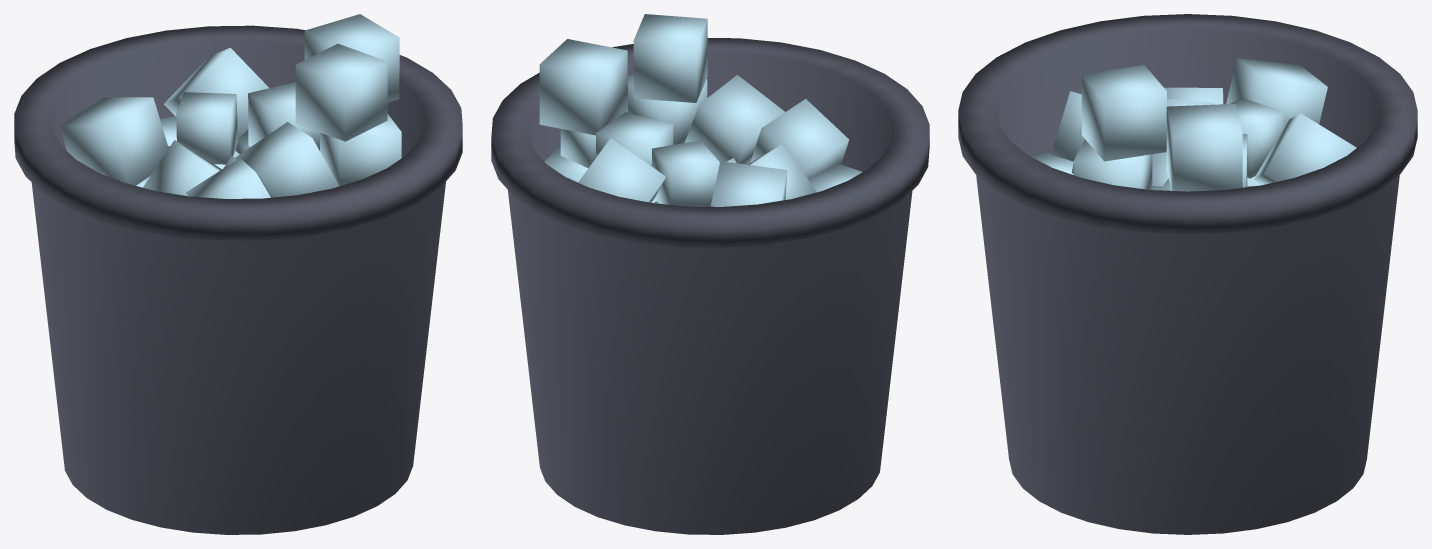
Rendered from balde_hielo.glb.
3 views of the same model, side by side, from view 1: azimuth 30°, elevation 25°; view 2: azimuth 150°, elevation 25°; view 3: azimuth 270°, elevation 25° (orthographic). The views are drawn at different scales.
Parts seen in each view (by area): view 1: bucket, Cube.010, Cube.067, Cube.009, Cube.011, Cube.029, Cube.012, Cube.013, Cube.030, Cube.064, Cube.017; view 2: bucket, Cube.012, Cube.010, Cube.009, Cube.017, Cube.011, Cube.013, Cube.067, Cube.030, Cube.029, Cube.064, Cube.015 (+2 smaller); view 3: bucket, Cube.010, Cube.012, Cube.067, Cube.013, Cube.029, Cube.011, Cube.017, Cube.060.
Boxes of the visible parts, x1,y1,x2,y2 form: bucket: (14,25,462,534); Cube.010: (295,43,387,141); Cube.067: (59,97,168,185); Cube.009: (235,122,339,197); Cube.011: (176,92,237,164); Cube.029: (320,114,401,186); Cube.012: (304,14,399,102); Cube.013: (164,47,269,138); Cube.030: (248,82,319,150); Cube.064: (143,140,221,195); Cube.017: (186,158,270,198); bucket: (491,38,929,534); Cube.012: (539,39,627,135); Cube.010: (633,14,707,102); Cube.009: (684,75,784,164); Cube.017: (750,98,849,178); Cube.011: (651,140,719,206); Cube.013: (578,138,665,202); Cube.067: (710,161,787,206); Cube.030: (596,112,673,165); Cube.029: (626,74,707,144); Cube.064: (748,142,816,199); Cube.015: (560,129,595,168); bucket: (958,14,1417,534); Cube.010: (1081,65,1166,161); Cube.012: (1166,104,1242,191); Cube.067: (1226,58,1327,126); Cube.013: (1253,113,1356,184); Cube.029: (1073,139,1152,189); Cube.011: (1230,98,1284,178); Cube.017: (1051,91,1081,161); Cube.060: (1164,87,1223,104).
Bounding box in the file's own units: 2.57 × 2.54 × 2.57.
